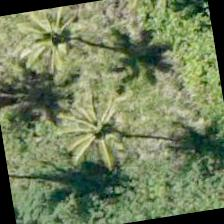Kelapa_Sawit: (44, 88, 148, 190), (4, 2, 104, 85)
